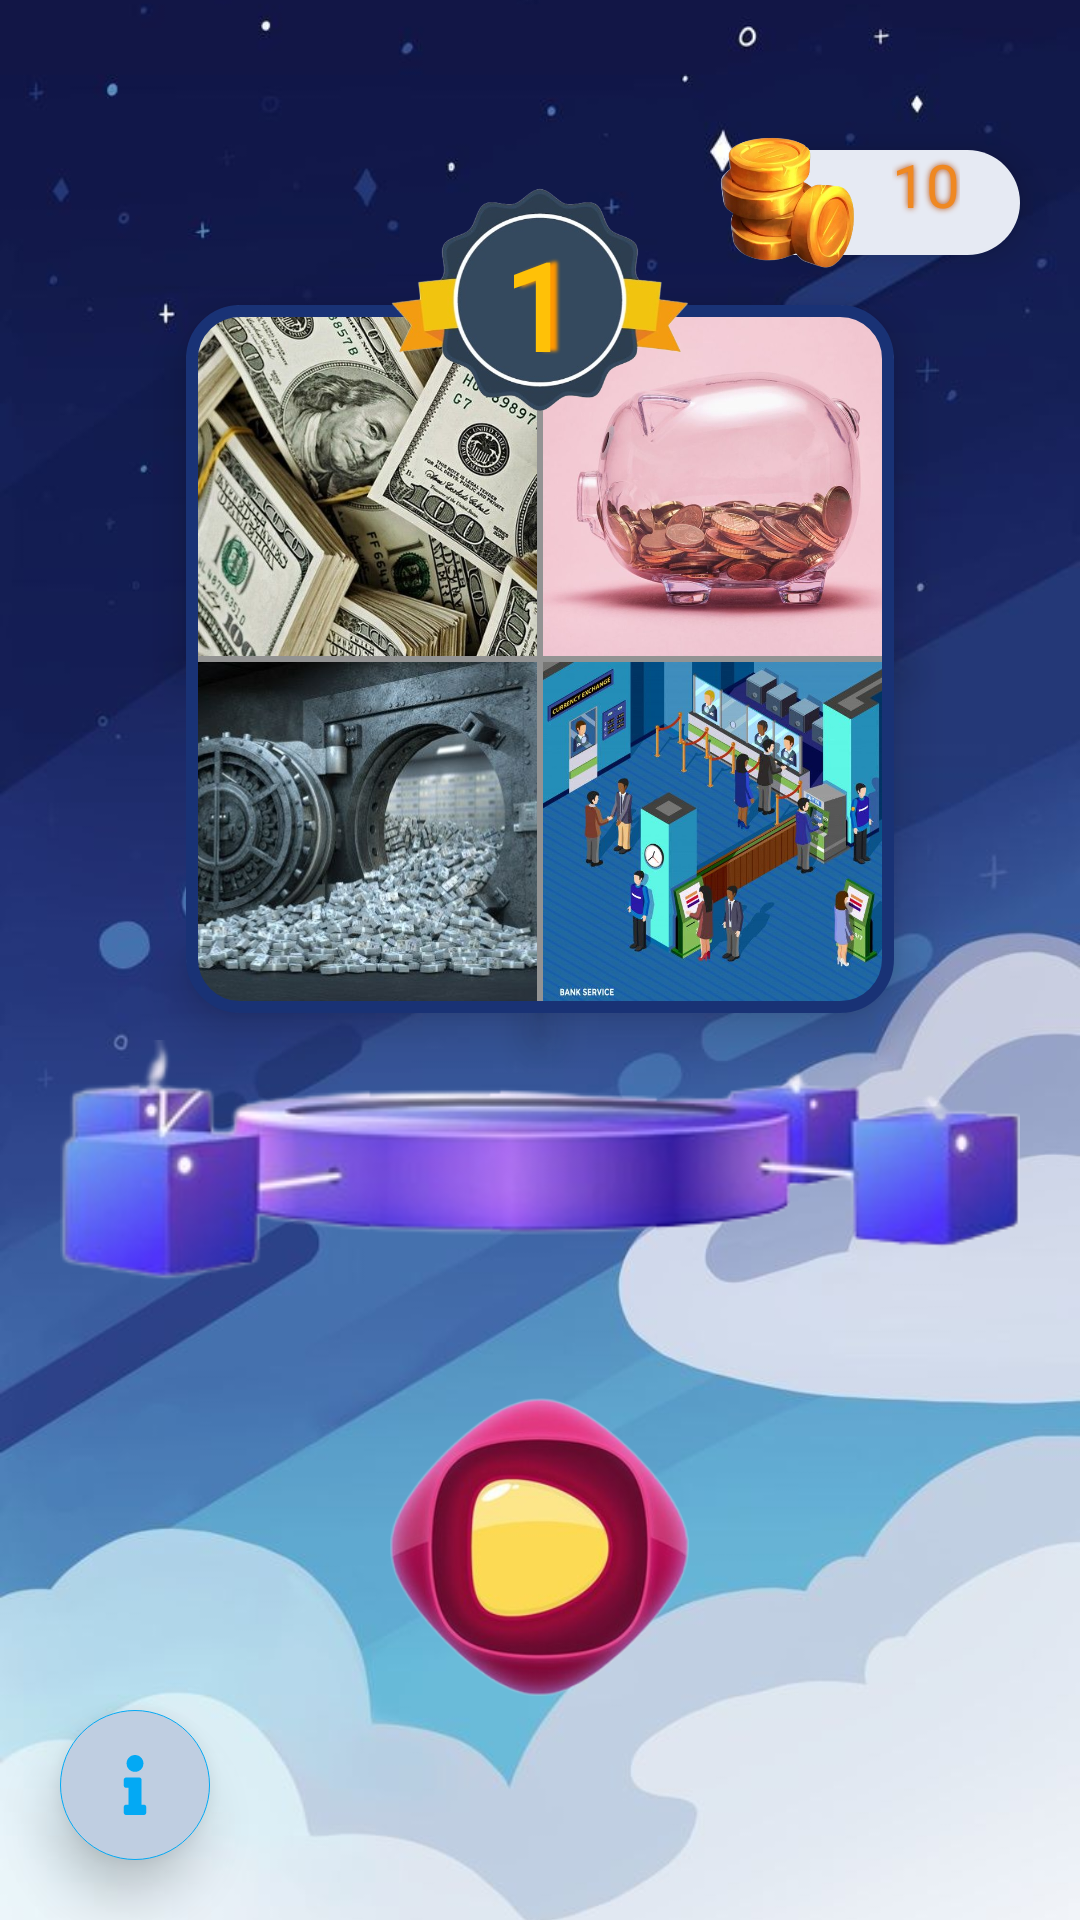

Icons on this 1080*1920 Android screen, each with its box as (x1, y1, x2, y2):
coin: (720, 135, 855, 270)
info: (60, 1710, 210, 1860)
play: (390, 1397, 690, 1697)
